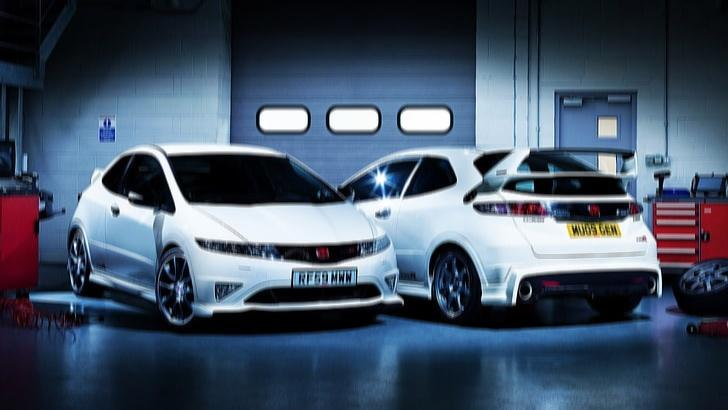Car boot: (497, 182, 652, 261)
Car hood: (181, 201, 391, 246)
Driver-s door - -F-R-: (103, 141, 158, 289)
Fender - -F-R-: (155, 197, 196, 300)
Fender - -R-L-: (425, 187, 483, 306)
Fender - -R-R-: (77, 202, 103, 284)
Front bumper: (184, 246, 411, 321)
Headlight - -L-: (350, 231, 398, 259)
Headlight - -R-: (193, 234, 287, 266)
Passenger-s door - -F-L-: (340, 151, 423, 291)
Rear bumper: (475, 220, 674, 311), (63, 209, 79, 271)
Rear light - -L-: (471, 197, 554, 223), (71, 184, 87, 205)
Rear light - -R-: (621, 196, 647, 219)
Side bumper - -L-: (389, 273, 445, 303)
Side bumper - -R-: (86, 265, 164, 307)
Side mirror - -L-: (330, 181, 362, 210)
Side mirror - -R-: (123, 181, 164, 210)
